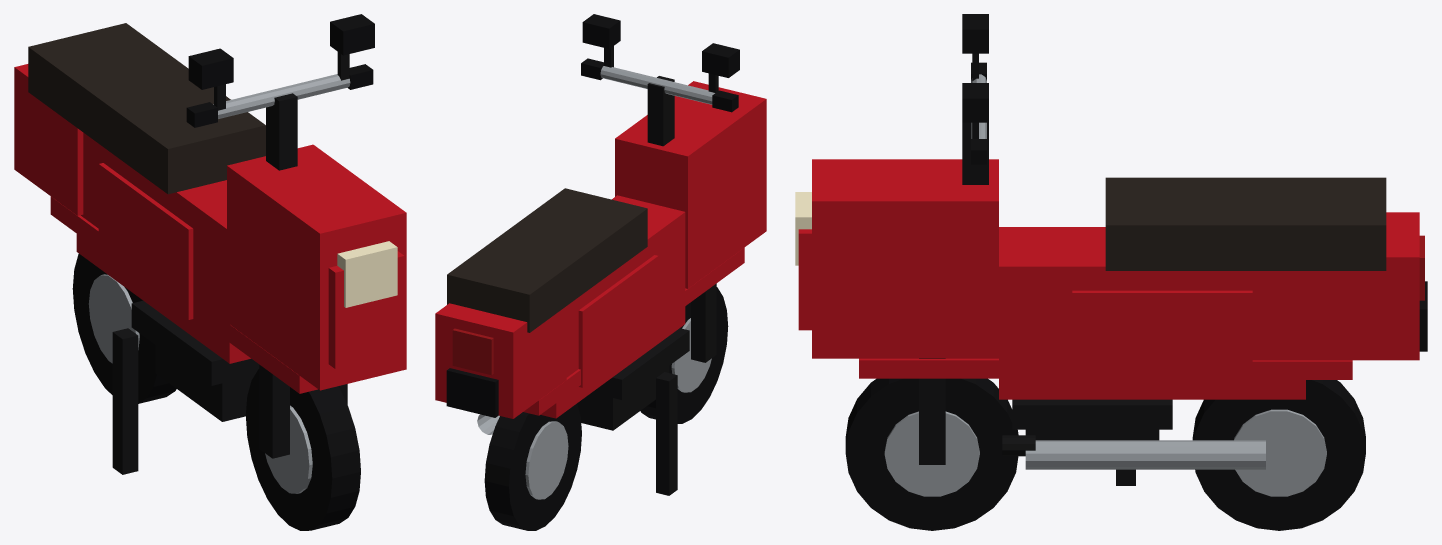
Rendered from motor.glb.
3 renders of one model, left to right at view 1: azimuth 30°, elevation 25°; view 2: azimuth 150°, elevation 25°; view 3: azimuth 270°, elevation 25°, orthographic. The views are drawn at different scales.
Parts seen in each view (by area): view 1: Cowl, Seat, Spine, Wheel_F, SidePanel_L, RearBody, CowlNose, Wheel_R, SideStand, Floorboard, Headlamp, Engine (+11 smaller); view 2: Cowl, Seat, RearBody, Spine, Wheel_R, SidePanel_L, SideStand, Wheel_R_Hub, Floorboard, Wheel_F, Engine, Plate_R (+10 smaller); view 3: Cowl, Seat, Spine, SidePanel_R, Wheel_F, RearBody, Wheel_R, Exhaust, Wheel_R_Hub, Wheel_F_Hub, Floorboard, Fender_F (+8 smaller).
Boxes of the visible parts, box(x1,y1,x2,y2) form: Cowl: box(227, 144, 406, 390); Seat: box(28, 23, 265, 194); Spine: box(76, 132, 250, 363); Wheel_F: box(245, 369, 360, 530); SidePanel_L: box(98, 163, 193, 319); RearBody: box(14, 64, 83, 215); CowlNose: box(328, 251, 404, 368); Wheel_R: box(72, 253, 176, 403); SideStand: box(112, 328, 138, 474); Floorboard: box(131, 300, 259, 385); Headlamp: box(337, 241, 397, 307); Engine: box(155, 345, 253, 421); Cowl: box(615, 81, 766, 288); Seat: box(447, 188, 647, 332); RearBody: box(435, 303, 566, 418); Spine: box(540, 195, 685, 418); Wheel_R: box(484, 403, 581, 530); SidePanel_L: box(578, 255, 658, 387); SideStand: box(656, 372, 677, 495); Wheel_R_Hub: box(525, 421, 568, 499); Floorboard: box(592, 328, 689, 399); Wheel_F: box(640, 287, 728, 423); Engine: box(577, 366, 669, 430); Plate_R: box(446, 368, 498, 417); Cowl: box(812, 159, 998, 358); Seat: box(1105, 177, 1386, 270); Spine: box(999, 227, 1305, 399); SidePanel_R: box(1072, 290, 1252, 383); Wheel_F: box(845, 378, 1018, 530); RearBody: box(1292, 212, 1419, 360); Wheel_R: box(1192, 380, 1365, 530); Exhaust: box(1025, 440, 1265, 469); Wheel_R_Hub: box(1234, 409, 1326, 496); Wheel_F_Hub: box(884, 411, 979, 496); Floorboard: box(1012, 399, 1172, 429); Fender_F: box(859, 358, 1005, 378).
Size of the model in its own units: 0.31 by 0.773 by 0.947.
